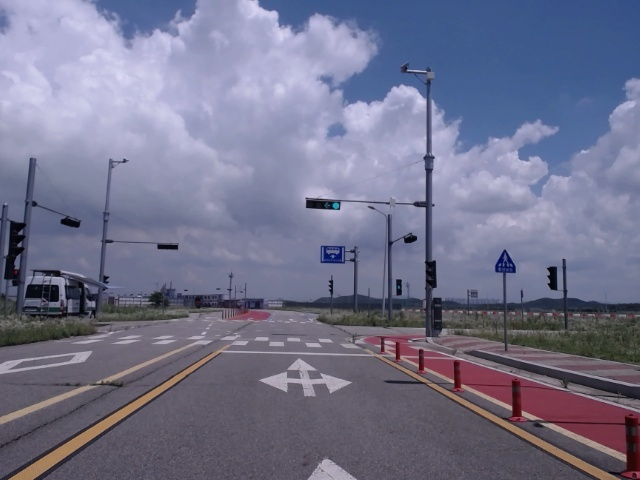all_green_4: (304, 197, 341, 210)
